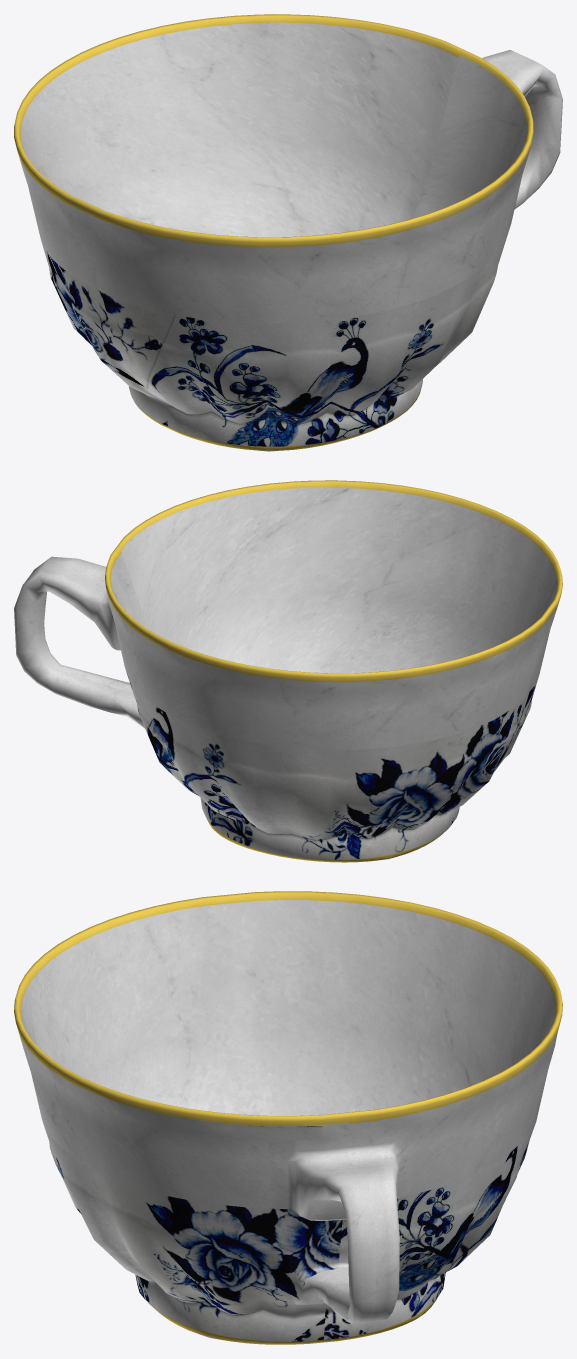
The model's file is cup.fbx.
The picture shows the model from 3 angles, top to bottom: view 1: azimuth 30°, elevation 25°; view 2: azimuth 150°, elevation 25°; view 3: azimuth 270°, elevation 25°; orthographic projection. The views are drawn at different scales.
Parts seen in each view (by area): view 1: cup.031; view 2: cup.031; view 3: cup.031.
Boxes of the visible parts, box(x1,y1,x2,y2) form: cup.031: box(14, 14, 562, 451); cup.031: box(14, 480, 562, 862); cup.031: box(14, 891, 562, 1344).
Size of the model in its own units: 56.55 by 26.74 by 46.74.
